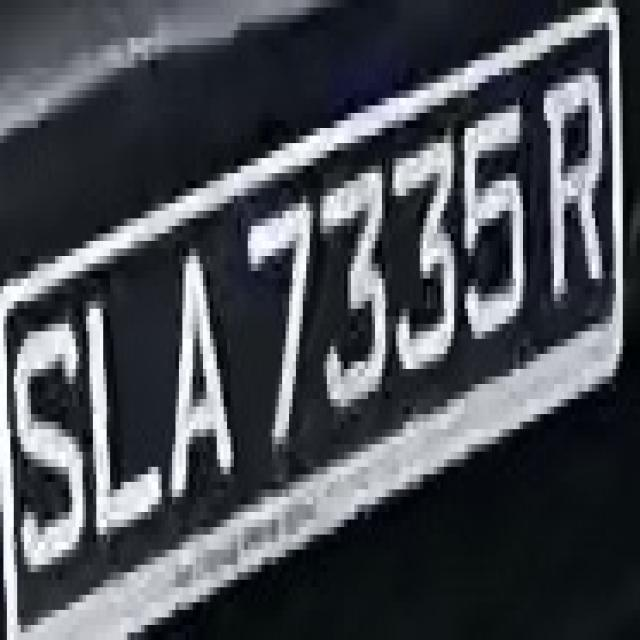3: (382, 121, 458, 414), (313, 166, 389, 414)
5: (447, 83, 530, 354)
7: (234, 173, 320, 452)
A: (155, 226, 237, 534)
L: (89, 278, 162, 550)
R: (544, 52, 609, 324)
S: (7, 286, 79, 602)
